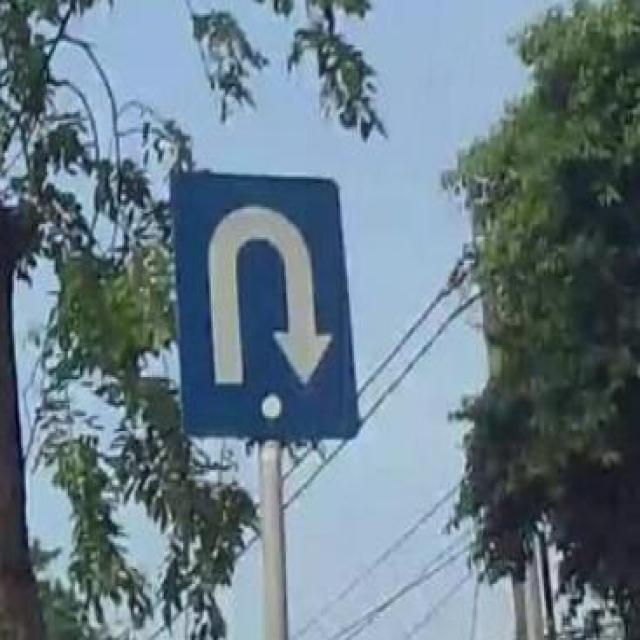traffic sign: (171, 168, 361, 444)
